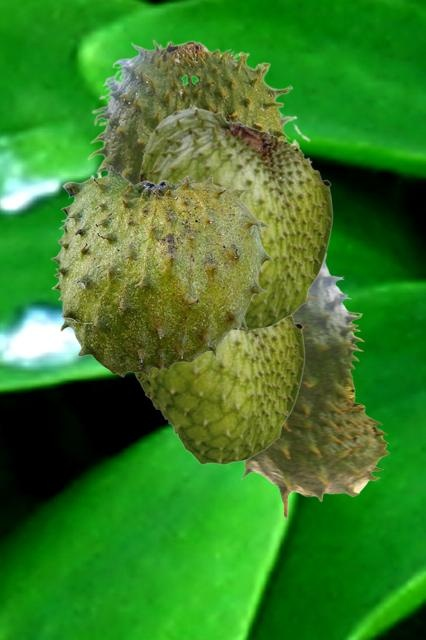guyabano: (50, 164, 273, 376), (139, 103, 332, 331), (240, 253, 389, 519), (87, 39, 310, 183), (134, 315, 304, 464)
